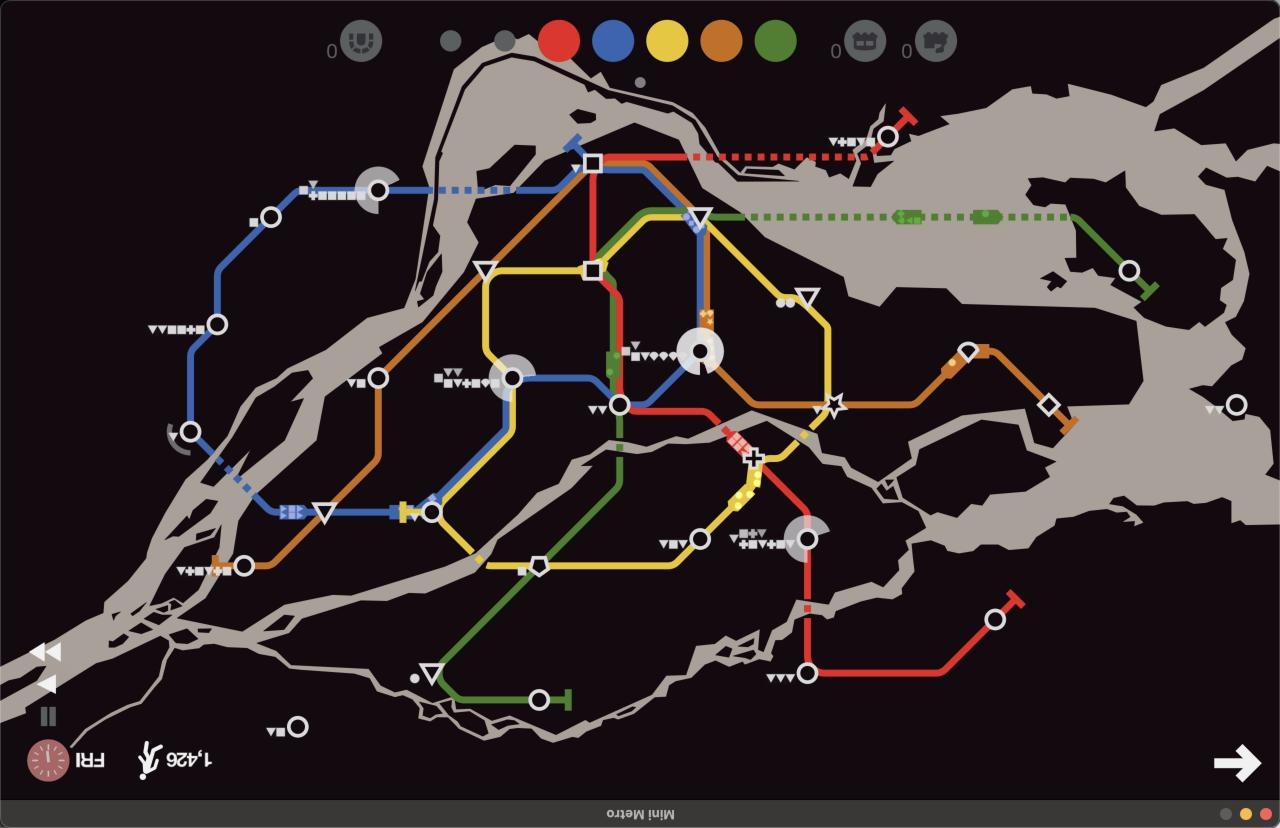BLUE LINE: (415, 399, 508, 505), (195, 438, 315, 515), (389, 167, 581, 194), (213, 224, 265, 313), (599, 167, 683, 207), (629, 366, 685, 409), (276, 185, 367, 209), (187, 331, 211, 421), (524, 375, 609, 394), (697, 233, 704, 328), (564, 134, 587, 158), (332, 510, 396, 517)
DARK GREEN LINE: (709, 213, 1125, 266), (542, 416, 623, 561), (439, 573, 534, 664), (593, 207, 686, 259), (437, 675, 530, 702), (609, 292, 616, 391), (1137, 276, 1160, 300), (550, 689, 572, 711), (604, 272, 616, 289)
ORANGE YELLOW LINE: (382, 275, 478, 371), (493, 173, 587, 261), (842, 356, 962, 409), (331, 389, 383, 501), (712, 367, 822, 408), (605, 160, 697, 207), (254, 517, 319, 570), (978, 347, 1041, 399), (703, 233, 712, 329), (1052, 410, 1079, 435), (213, 557, 233, 579)
RED LINE: (819, 626, 989, 677), (627, 407, 749, 453), (603, 147, 881, 162), (764, 467, 810, 530), (601, 278, 623, 394), (802, 551, 811, 664), (589, 175, 598, 259), (893, 106, 918, 131), (1001, 590, 1024, 615)
YELLOW LINE: (481, 265, 581, 373), (706, 221, 804, 309), (443, 393, 515, 505), (438, 519, 531, 571), (599, 215, 683, 267), (549, 545, 695, 570), (707, 466, 759, 533), (764, 411, 829, 463), (808, 305, 831, 397), (398, 501, 423, 525)
